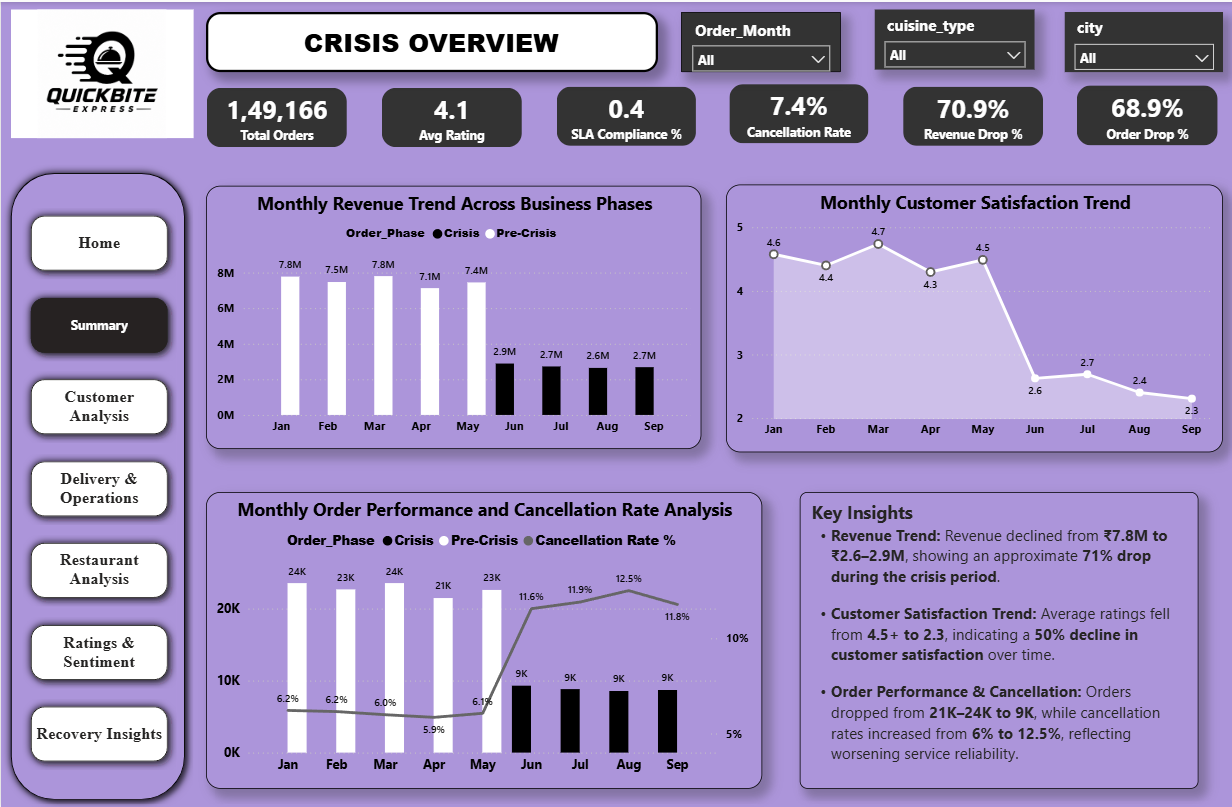

This screenshot's page, from the dashboard's own definition file:
{"tool":"powerbi","page":{"name":"Summary","canvas":[1300,850],"ordinal":1},"visuals":[{"type":"cardVisual","fields":{"Data":["orders_data.Total Orders"]},"box":[211.8,85,157.7,72.7],"z":0},{"type":"cardVisual","fields":{"Data":["ratings_data.Avg Rating"]},"box":[395.5,85,157.7,72.7],"z":1000},{"type":"cardVisual","fields":{"Data":["delivery_performance_data.SLA Compliance %"]},"box":[579.2,83.5,156.2,72.7],"z":2000},{"type":"cardVisual","fields":{"Data":["orders_data.Revenue Drop %"]},"box":[943.4,83.5,157.7,72.7],"z":3000},{"type":"clusteredColumnChart","title":"Monthly Revenue Trend Across Business Phases","fields":{"Category":["orders_data.Order_Month"],"Y":["orders_data.Total Revenue"],"Series":["orders_data.Order_Phase"]},"box":[214.9,193.3,521,276.7],"z":4000},{"type":"lineClusteredColumnComboChart","title":"Monthly Order Performance and Cancellation Rate Analysis","fields":{"Category":["orders_data.Order_Month"],"Y":["orders_data.Total Orders"],"Y2":["orders_data.Cancellation Rate %"],"Series":["orders_data.Order_Phase"]},"box":[214.9,514.8,584.4,312.3],"z":5000},{"type":"textbox","box":[215,10,475,63.3],"z":6000},{"type":"shape","box":[1.7,170.9,201.1,676.9],"z":7000},{"type":"pageNavigator","box":[21.8,216.2,162.5,596.5],"z":8000},{"type":"cardVisual","fields":{"Data":["orders_data.Cancellation Rate %"]},"box":[761.3,81.9,156.2,72.7],"z":9000},{"type":"cardVisual","fields":{"Data":["orders_data.Order Drop %"]},"box":[1126.7,83.3,158.3,73.3],"z":10000},{"type":"slicer","fields":{"Values":["orders_data.Order_Month"]},"box":[715,10,168.3,63.3],"z":11000},{"type":"slicer","fields":{"Values":["restaurant_data.city"]},"box":[1118.3,10,166.7,63.3],"z":12000},{"type":"slicer","fields":{"Values":["restaurant_data.cuisine_type"]},"box":[918.3,8.3,168.3,63.3],"z":13000},{"type":"image","box":[10,8.3,191.7,135],"z":14000},{"type":"lineChart","title":"Monthly Customer Satisfaction Trend","fields":{"Category":["ratings_data.Month Name"],"Y":["ratings_data.Avg Rating"]},"box":[762.2,191.7,522.6,281.4],"z":15000},{"type":"textbox","box":[839.5,514.8,419,312.3],"z":16000}]}

Visuals, with their boxes in screenshot pixels (x1, y1, x2, y2), scaled from the page's 1300x850 canvas onto the 1232x807 screenshot:
cardVisual - orders_data.Total Orders: l=201, t=81, r=350, b=150
cardVisual - ratings_data.Avg Rating: l=375, t=81, r=524, b=150
cardVisual - delivery_performance_data.SLA Compliance %: l=549, t=79, r=697, b=148
cardVisual - orders_data.Revenue Drop %: l=894, t=79, r=1044, b=148
"Monthly Revenue Trend Across Business Phases" clusteredColumnChart: l=204, t=184, r=697, b=446
"Monthly Order Performance and Cancellation Rate Analysis" lineClusteredColumnComboChart: l=204, t=489, r=757, b=785
textbox: l=204, t=9, r=654, b=70
shape: l=2, t=162, r=192, b=805
pageNavigator: l=21, t=205, r=175, b=772
cardVisual - orders_data.Cancellation Rate %: l=721, t=78, r=870, b=147
cardVisual - orders_data.Order Drop %: l=1068, t=79, r=1218, b=149
slicer - orders_data.Order_Month: l=678, t=9, r=837, b=70
slicer - restaurant_data.city: l=1060, t=9, r=1218, b=70
slicer - restaurant_data.cuisine_type: l=870, t=8, r=1030, b=68
image: l=9, t=8, r=191, b=136
"Monthly Customer Satisfaction Trend" lineChart: l=722, t=182, r=1218, b=449
textbox: l=796, t=489, r=1193, b=785
